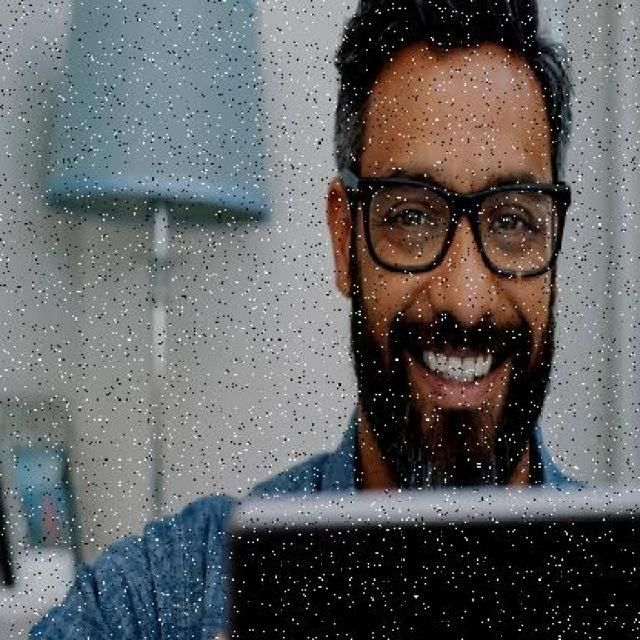glasses: (340, 165, 578, 284)
